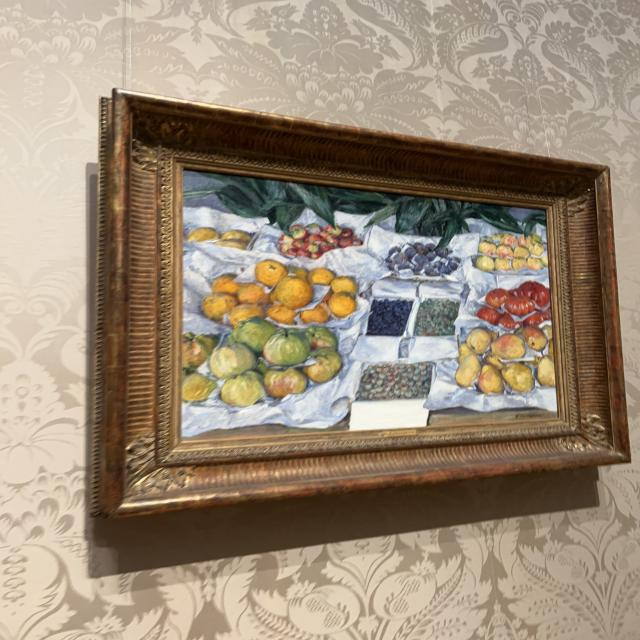fruits: (186, 175, 552, 435)
